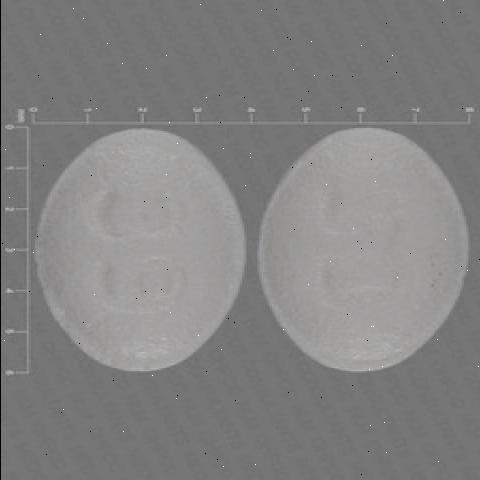Pill: (26, 122, 256, 404), (257, 118, 472, 405)
